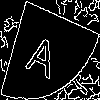A: (25, 25, 63, 80)
